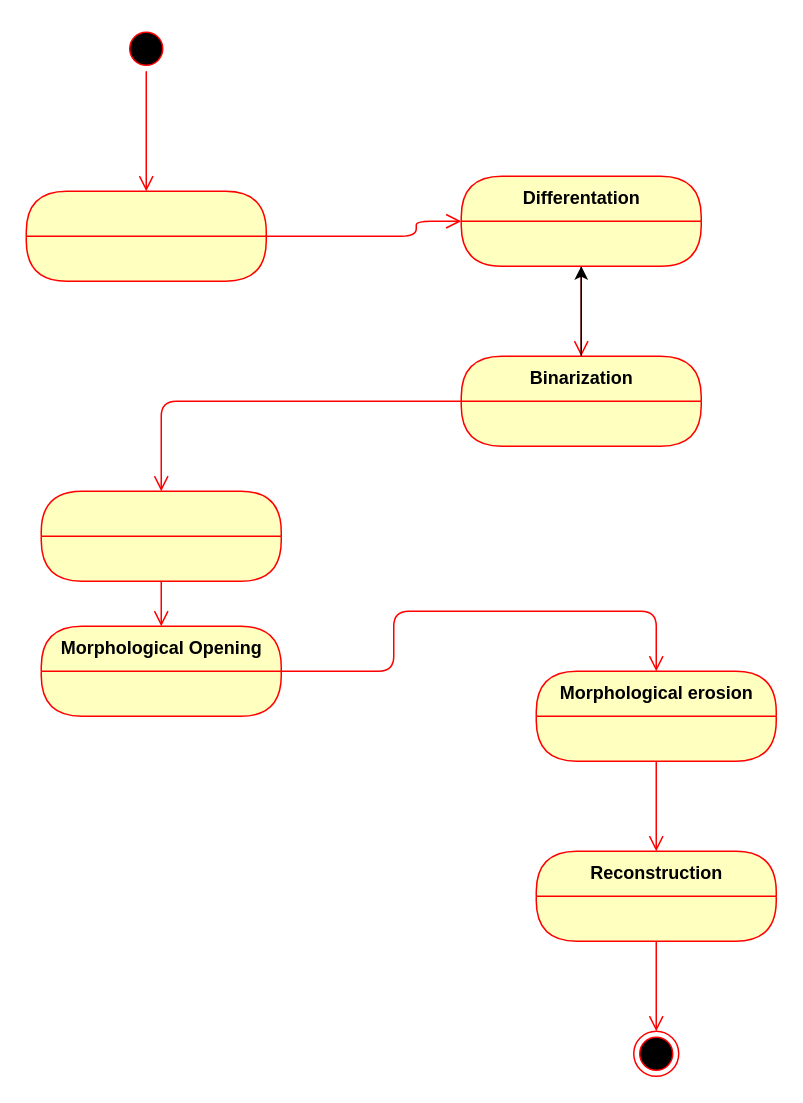
The diagram is 803 pixels wide and 1103 high, and some of its shapes have lost their labels. The centre of each missing label's shape, as x and y in pixels:
"Gray Scale" goes at point (145, 235).
"Morphological Closing" goes at point (160, 535).
